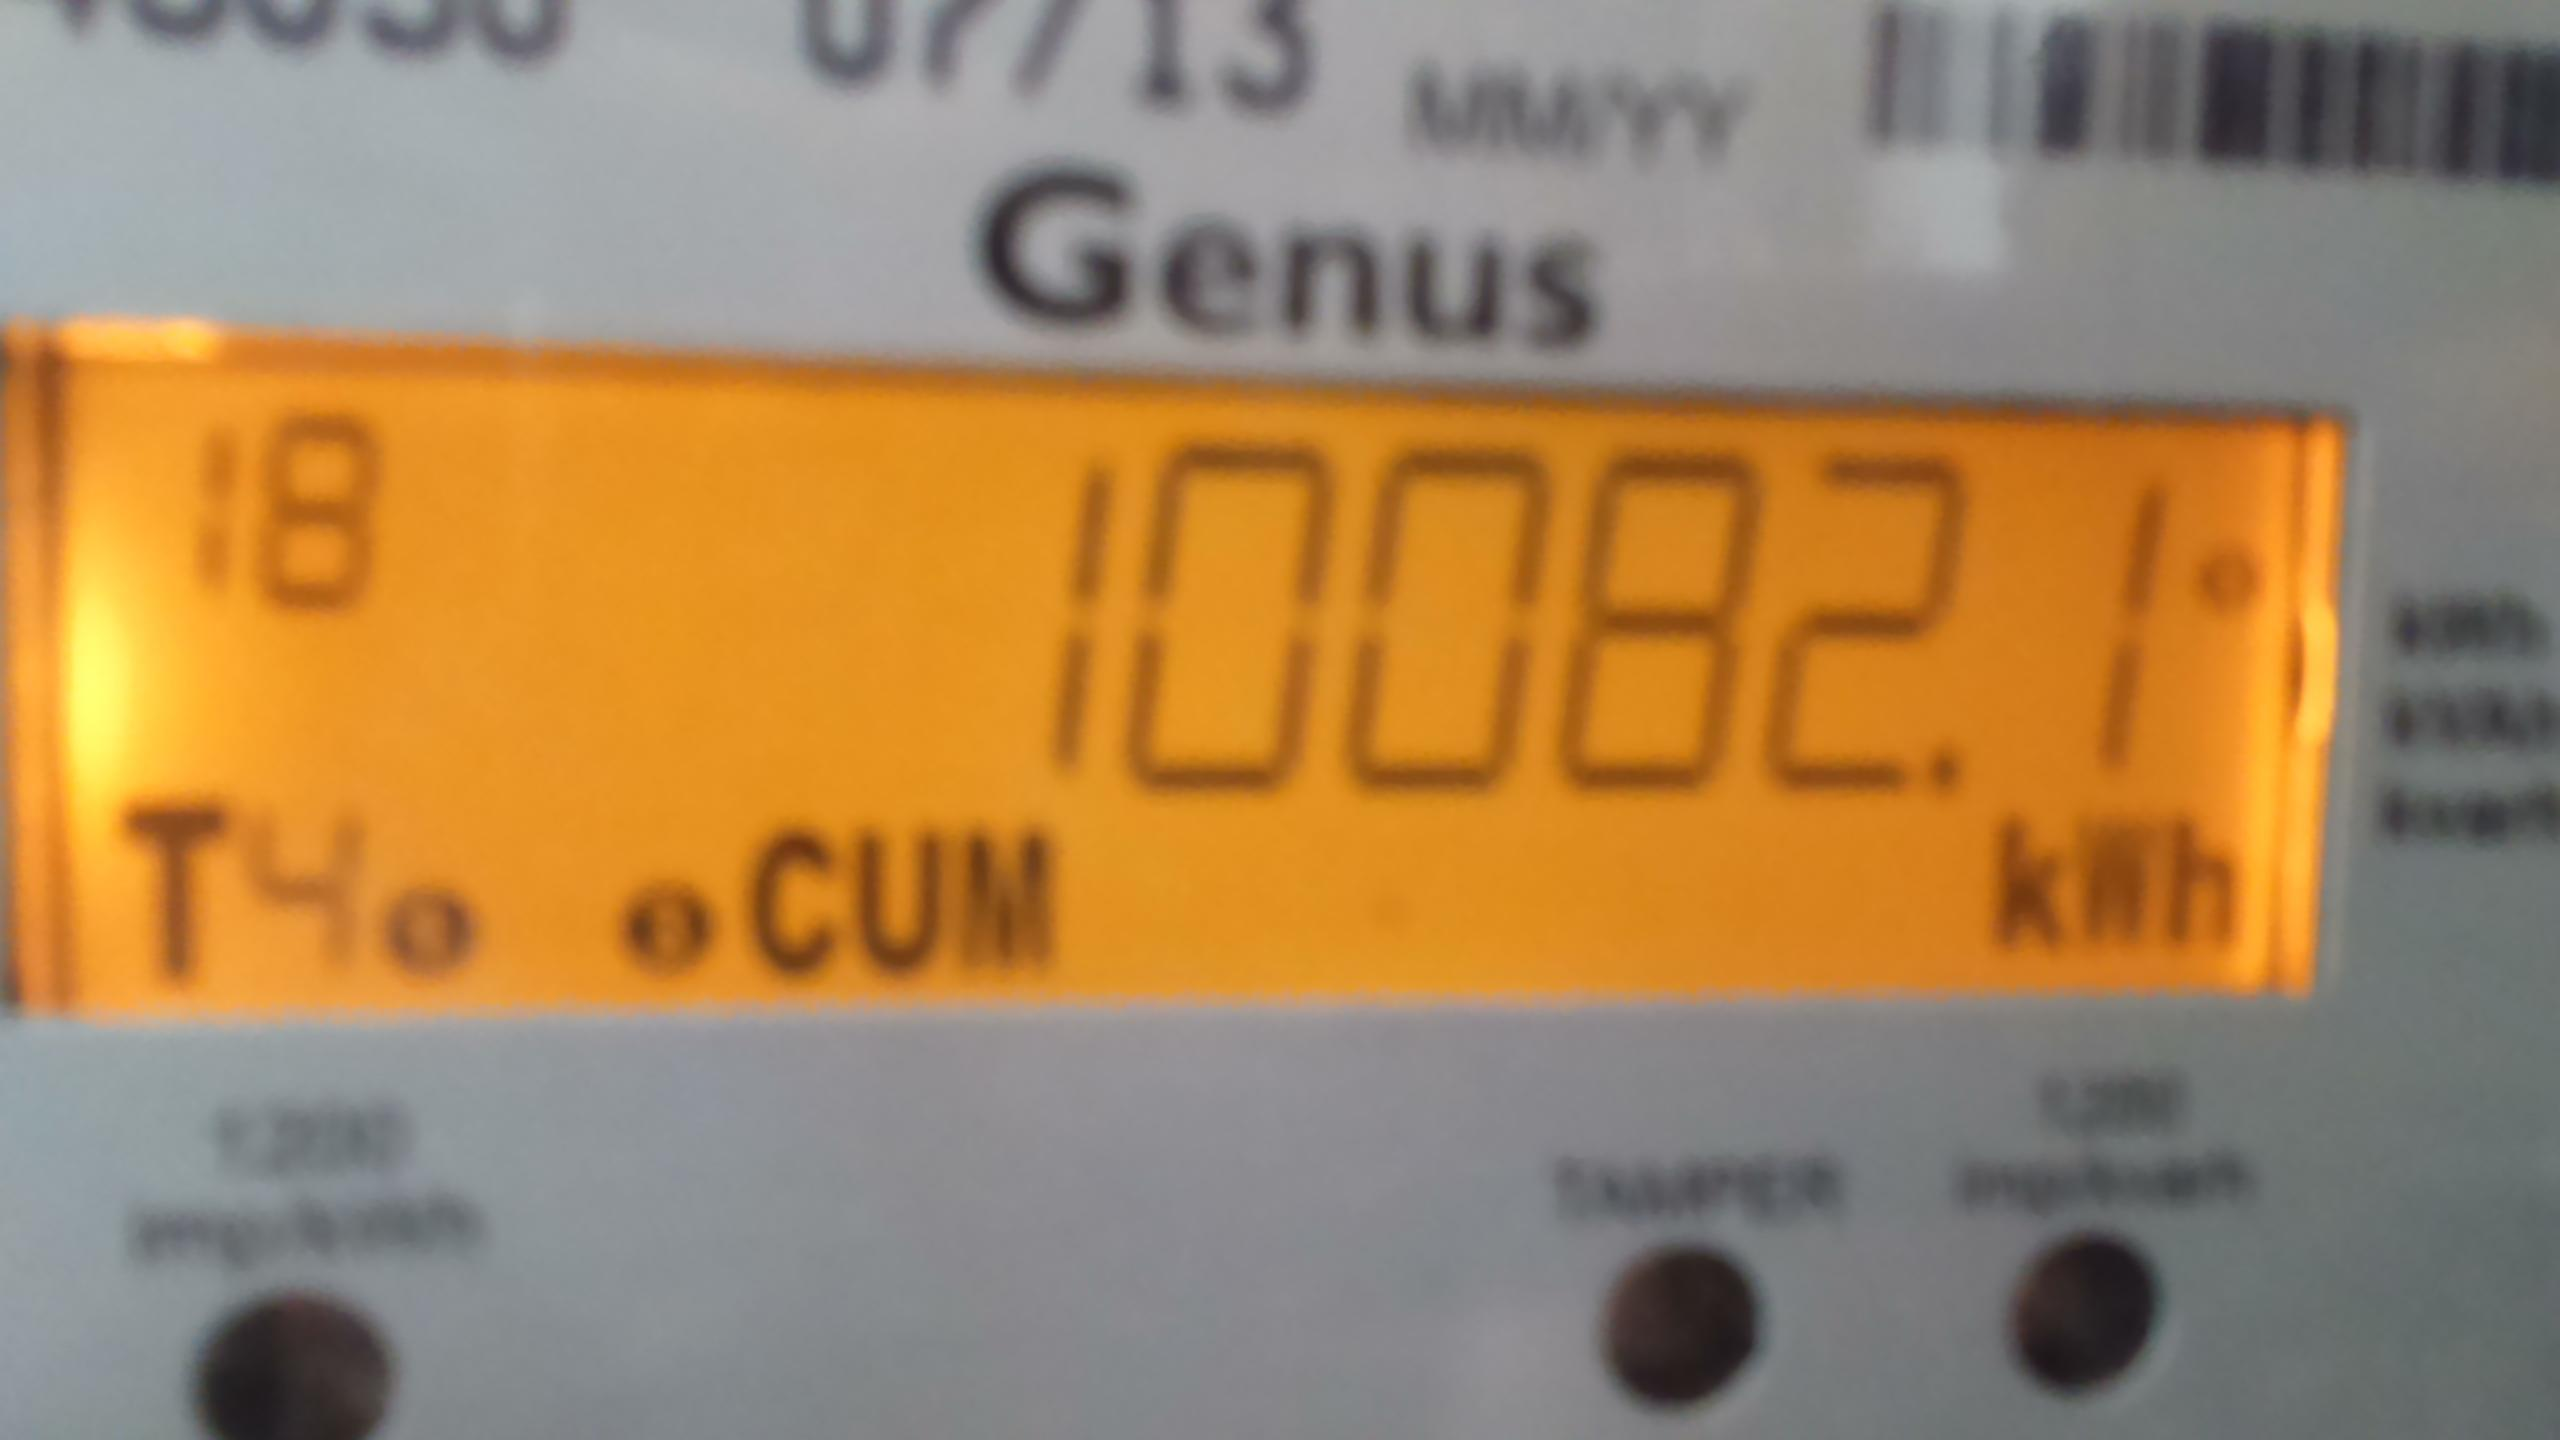.: (1985, 791, 2261, 964)
0: (1874, 728, 2033, 832)
1: (1331, 413, 1567, 876), (1146, 399, 1338, 786)
2: (972, 378, 1122, 798), (2068, 438, 2201, 738)
3: (1767, 424, 1982, 812)
9: (1596, 413, 1764, 893)
